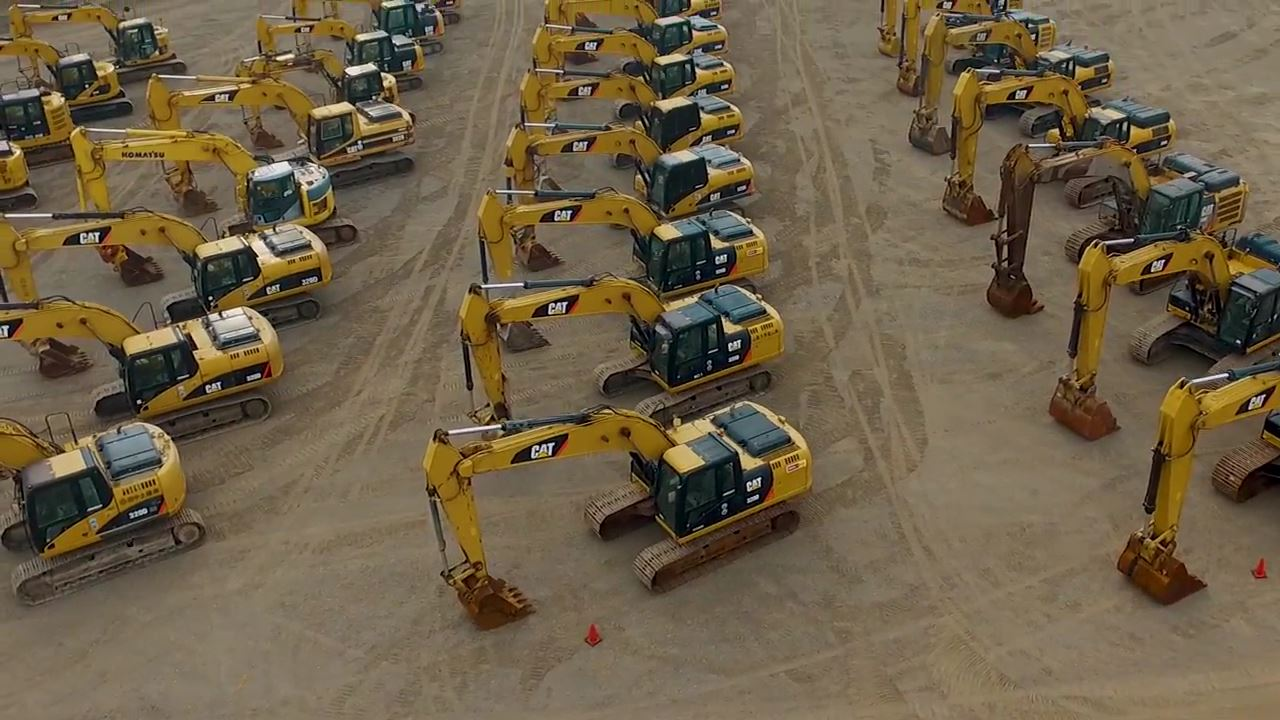con_eq: (419, 405, 817, 636), (447, 276, 788, 414), (8, 405, 220, 610), (982, 136, 1211, 322), (148, 74, 423, 218), (71, 126, 362, 262), (946, 59, 1173, 232), (7, 299, 281, 438), (1041, 234, 1214, 441), (16, 217, 326, 332), (468, 187, 768, 305), (910, 11, 1117, 160), (499, 121, 761, 217), (1121, 361, 1218, 598), (510, 65, 745, 158), (529, 19, 740, 107), (8, 3, 200, 84), (251, 11, 444, 87), (231, 50, 398, 117), (9, 40, 141, 123), (541, 5, 734, 56), (276, 11, 450, 55), (9, 94, 94, 170), (895, 6, 922, 97), (8, 144, 39, 213)
